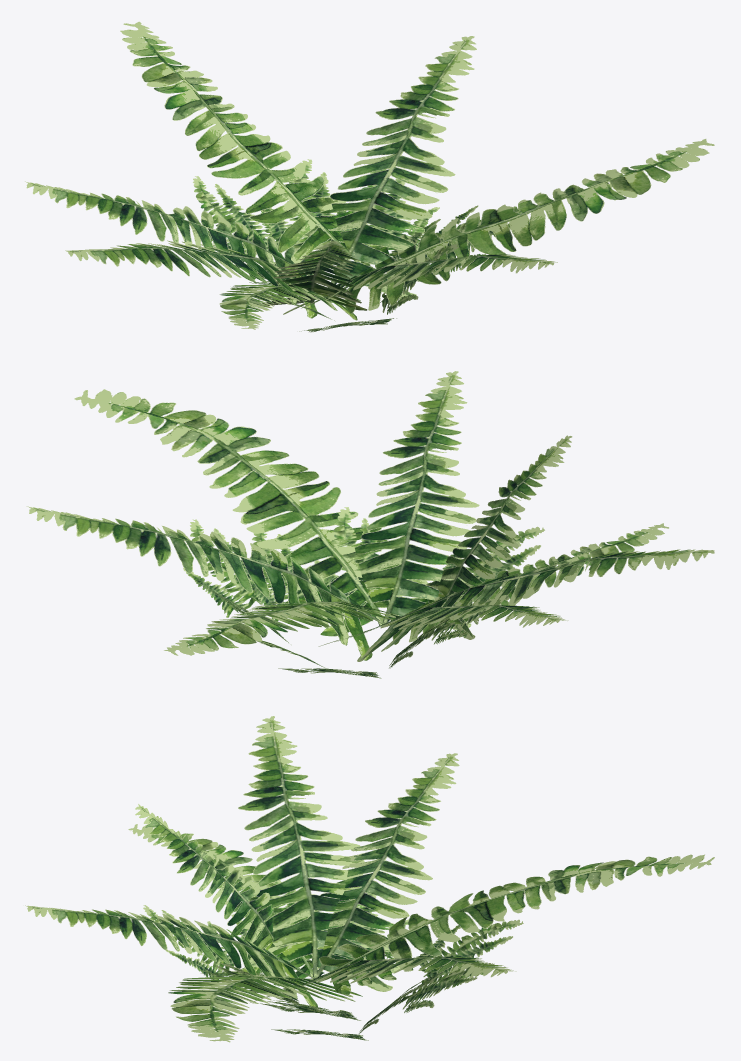
File: FernTest.fbx
The picture shows the model from 3 angles, top to bottom: view 1: azimuth 30°, elevation 25°; view 2: azimuth 150°, elevation 25°; view 3: azimuth 270°, elevation 25°; orthographic projection. The views are drawn at different scales.
Parts seen in each view (by area): view 1: FernTexture.006; view 2: FernTexture.006; view 3: FernTexture.006.
Part boxes in pixels (bbox=[...]): FernTexture.006: bbox=[25, 21, 714, 332]; FernTexture.006: bbox=[26, 371, 714, 678]; FernTexture.006: bbox=[25, 716, 714, 1042].
Bounding box in the file's own units: 241 × 52.99 × 232.
Materials: 1 (1 with a texture image).
